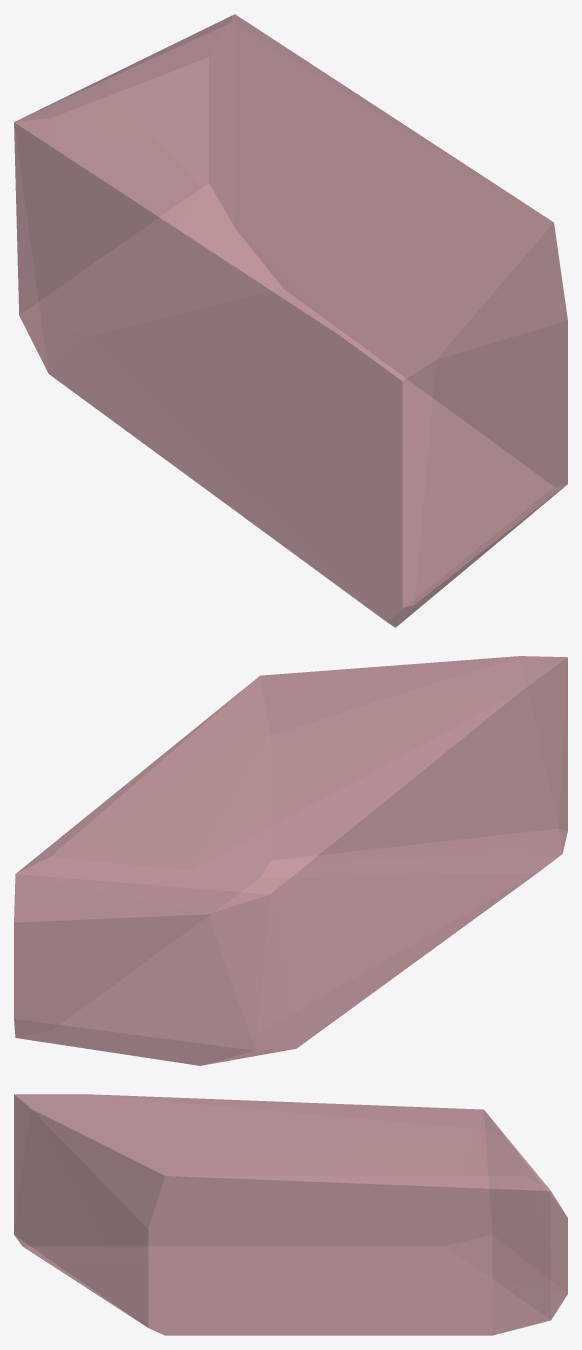
3 views of the same model, one above another, from view 1: azimuth 30°, elevation 25°; view 2: azimuth 150°, elevation 25°; view 3: azimuth 270°, elevation 25° (orthographic). The views are drawn at different scales.
Parts seen in each view (by area): view 1: Shape_IndexedFaceSet.004_Shape_IndexedFaceSet.10109; view 2: Shape_IndexedFaceSet.004_Shape_IndexedFaceSet.10109; view 3: Shape_IndexedFaceSet.004_Shape_IndexedFaceSet.10109.
Part boxes in pixels (bbox=[...]): Shape_IndexedFaceSet.004_Shape_IndexedFaceSet.10109: bbox=[14, 14, 567, 627]; Shape_IndexedFaceSet.004_Shape_IndexedFaceSet.10109: bbox=[14, 656, 567, 1065]; Shape_IndexedFaceSet.004_Shape_IndexedFaceSet.10109: bbox=[14, 1094, 567, 1335].
Bounding box in the file's own units: 0.0084 × 0.00767 × 0.0241.
